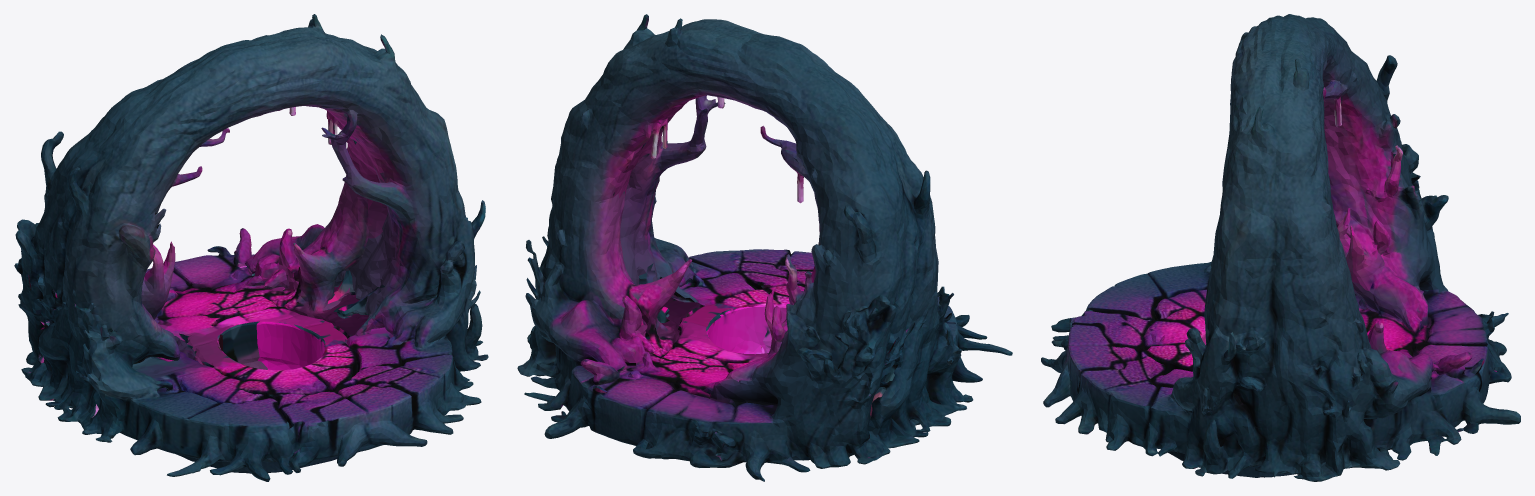
The model's file is world-root-basin-generated-2026-04-19T16-01-28-798Z.glb.
3 views of the same model, side by side, from view 1: azimuth 30°, elevation 25°; view 2: azimuth 150°, elevation 25°; view 3: azimuth 270°, elevation 25° (orthographic). The views are drawn at different scales.
Parts seen in each view (by area): view 1: temp_mesh.ply; view 2: temp_mesh.ply; view 3: temp_mesh.ply.
Part boxes in pixels (x1,y1,x2,y2): temp_mesh.ply: [14, 14, 488, 481]; temp_mesh.ply: [517, 14, 1012, 481]; temp_mesh.ply: [1041, 14, 1520, 481].
Size of the model in its own units: 1.97 by 1.8 by 1.97.
1 material, 1 textured.
